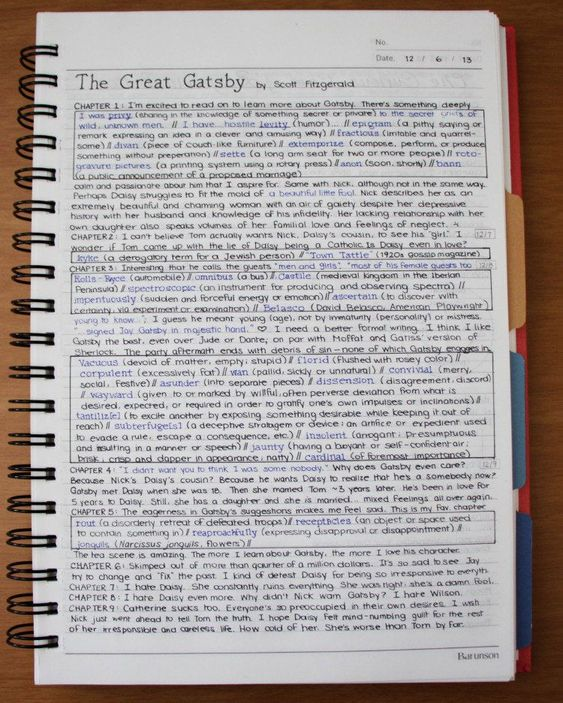page: (64, 14, 508, 684)
